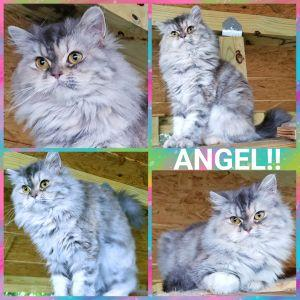persian: (6, 4, 127, 125)
